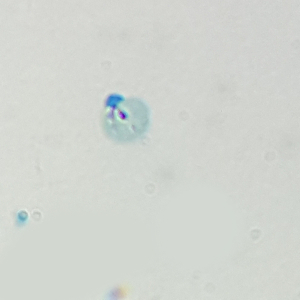erythrocyte: (99, 92, 151, 146)
